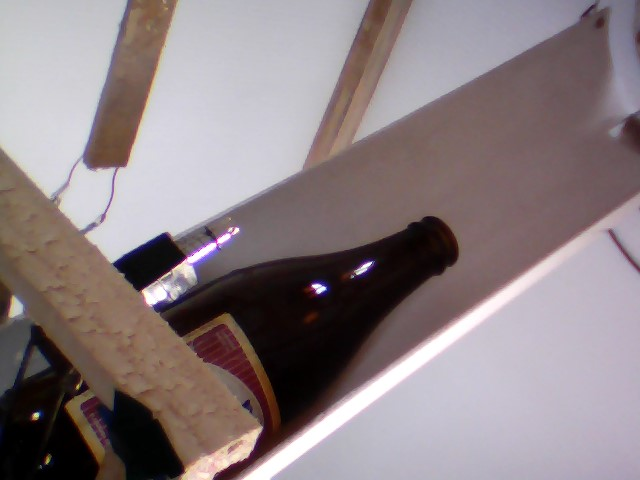vidrio: (191, 206, 473, 440)
